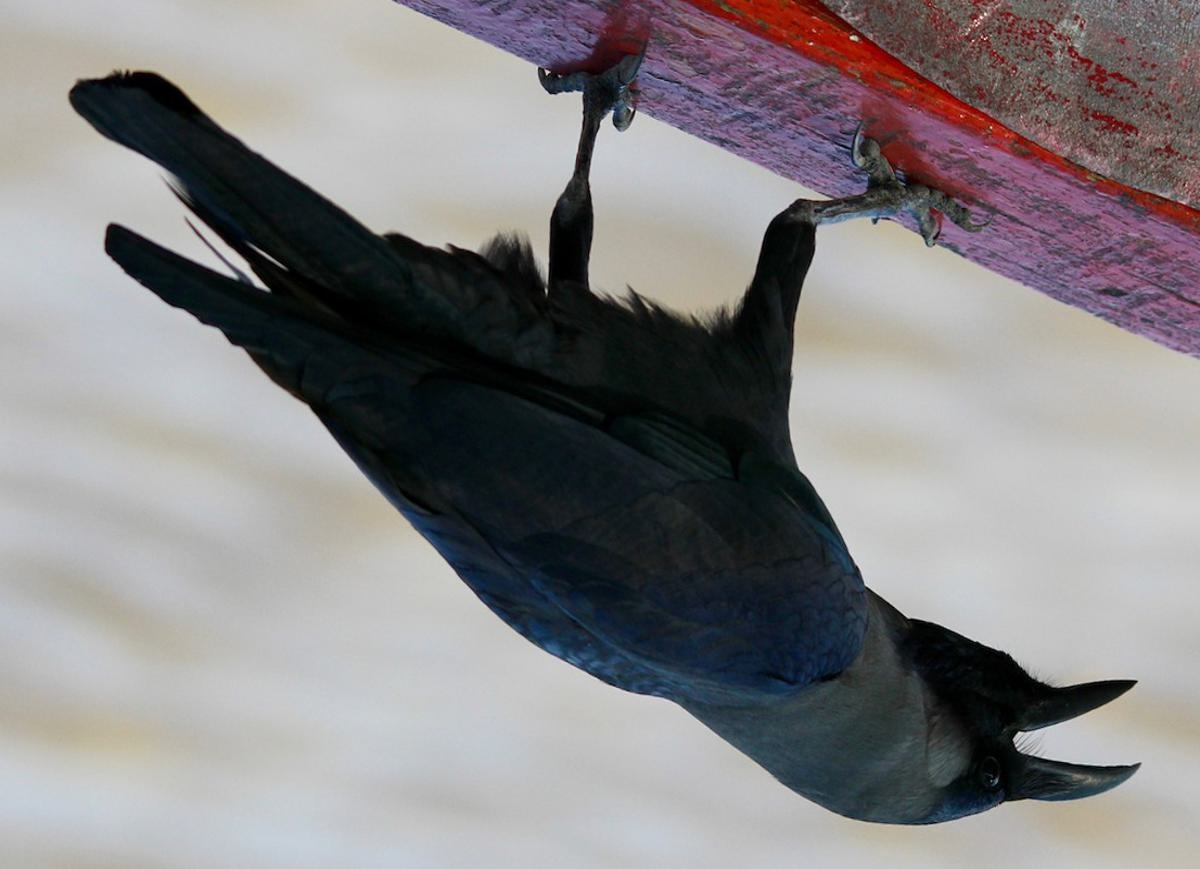crow: (65, 6, 1159, 837)
